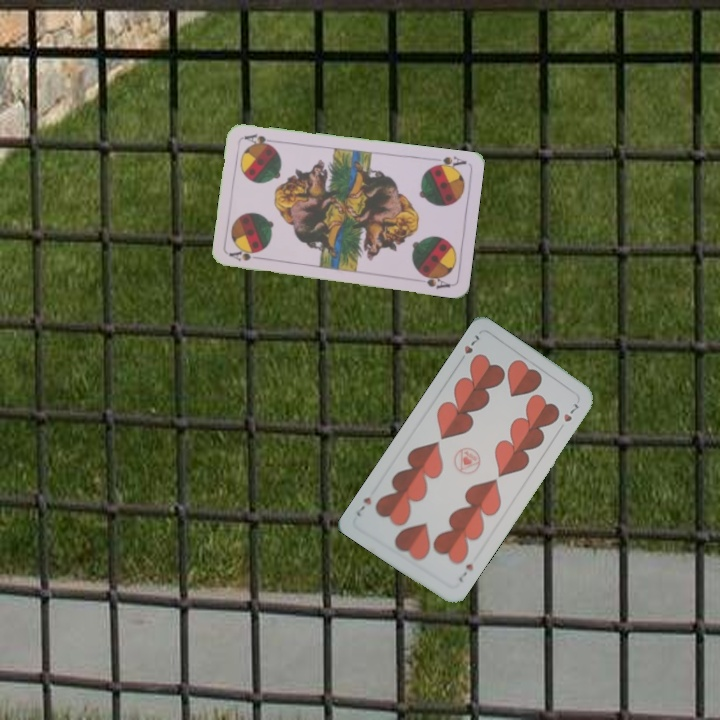H7: (460, 330, 482, 356), (455, 559, 476, 585)
SA: (427, 152, 468, 173), (226, 248, 267, 264)
